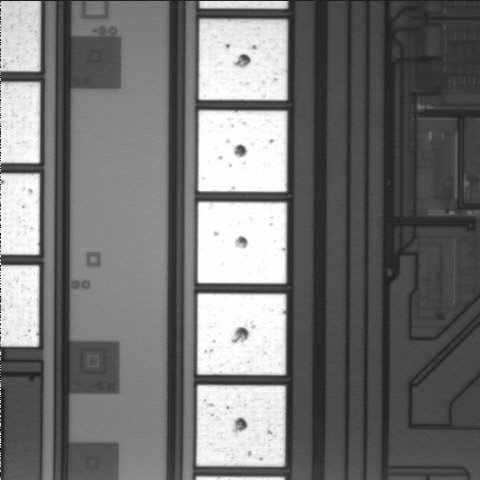pad: (196, 385, 286, 467), (198, 110, 287, 192), (197, 293, 286, 375), (198, 202, 287, 283), (199, 19, 287, 100)
